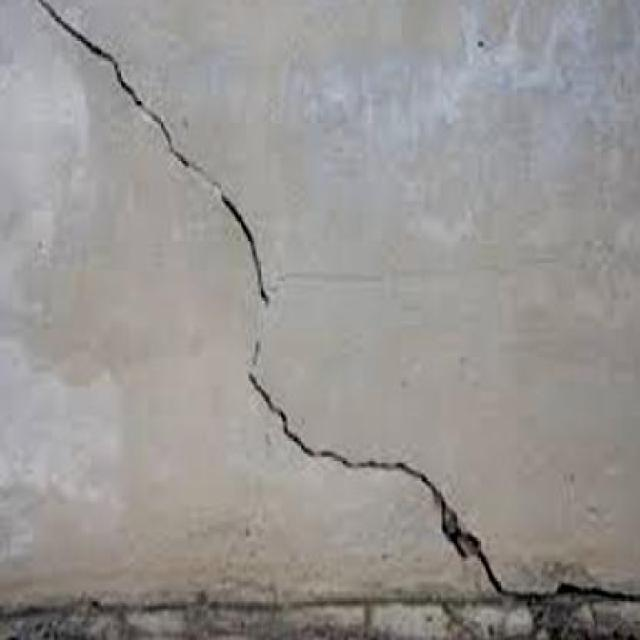Crack: (186, 309, 636, 636), (7, 5, 260, 303)
